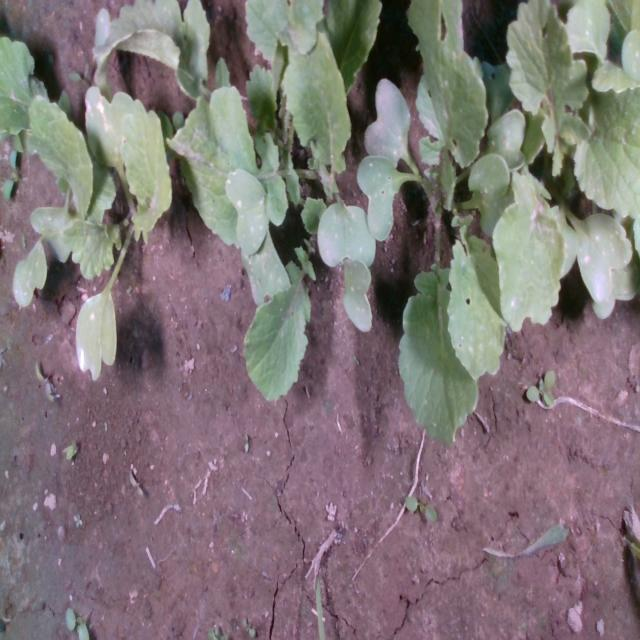weed: (522, 368, 558, 409)
